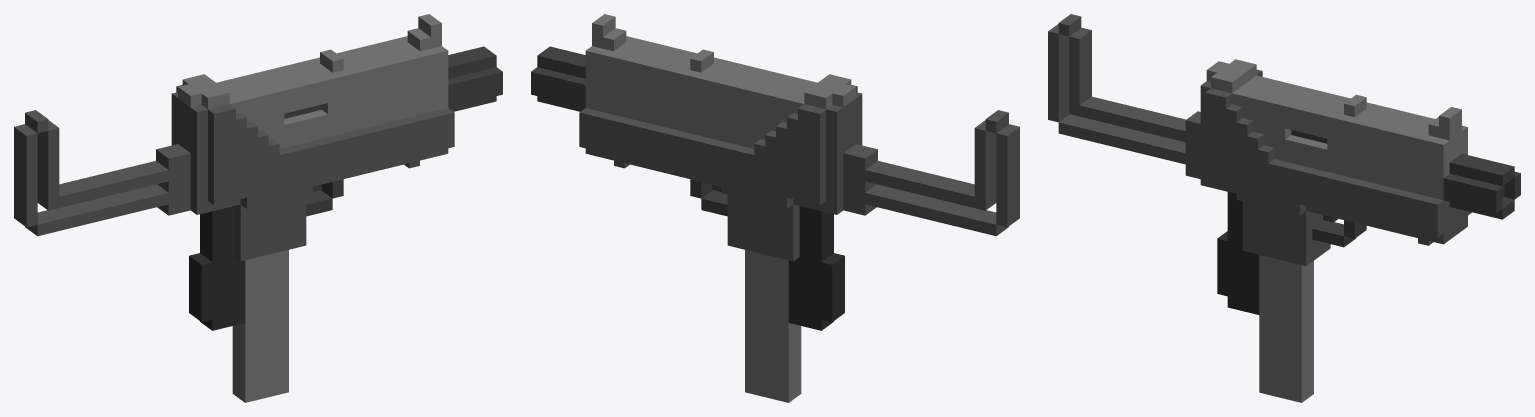
The model's file is UZY.obj.
3 views of the same model, side by side, from view 1: azimuth 30°, elevation 25°; view 2: azimuth 150°, elevation 25°; view 3: azimuth 330°, elevation 25° (orthographic). The views are drawn at different scales.
Bounding box in the file's own units: 4.3 × 2.9 × 0.6.
Materials: 1 (1 with a texture image).
